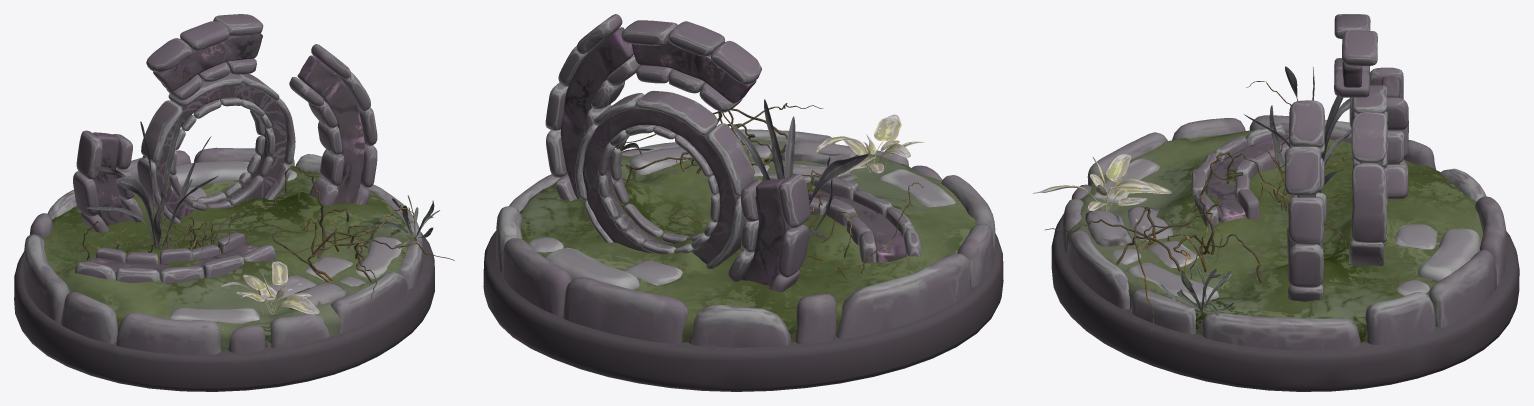
The picture shows the model from 3 angles, left to right: view 1: azimuth 30°, elevation 25°; view 2: azimuth 150°, elevation 25°; view 3: azimuth 270°, elevation 25°; orthographic projection. The views are drawn at different scales.
Visible parts, largest first — view 1: Object_2, Object_10, Object_11, Object_7, Object_8, Object_6, Object_3, Object_5; view 2: Object_11, Object_10, Object_2, Object_7, Object_8, Object_6, Object_5, Object_3; view 3: Object_2, Object_11, Object_10, Object_7, Object_3, Object_8, Object_6, Object_5.
Part boxes in pixels (<box>): Object_2: <box>43,166,417,350</box>; Object_10: <box>73,14,377,283</box>; Object_11: <box>23,147,423,354</box>; Object_7: <box>14,232,434,391</box>; Object_8: <box>87,33,364,276</box>; Object_6: <box>86,114,439,249</box>; Object_3: <box>76,166,454,299</box>; Object_5: <box>221,261,319,314</box>; Object_11: <box>496,129,995,347</box>; Object_10: <box>545,14,921,292</box>; Object_2: <box>519,139,978,342</box>; Object_7: <box>483,231,1003,391</box>; Object_8: <box>561,27,906,285</box>; Object_6: <box>619,99,868,239</box>; Object_5: <box>816,114,924,176</box>; Object_3: <box>626,103,923,287</box>; Object_2: <box>1066,130,1482,342</box>; Object_11: <box>1062,115,1506,350</box>; Object_10: <box>1191,14,1408,301</box>; Object_7: <box>1051,213,1519,391</box>; Object_3: <box>1045,81,1352,331</box>; Object_8: <box>1206,62,1400,243</box>; Object_6: <box>1160,66,1351,315</box>; Object_5: <box>1033,154,1171,210</box>.
Size of the model in its own units: 9.65 by 6.05 by 9.57.
Materials: 8 (8 with a texture image).
